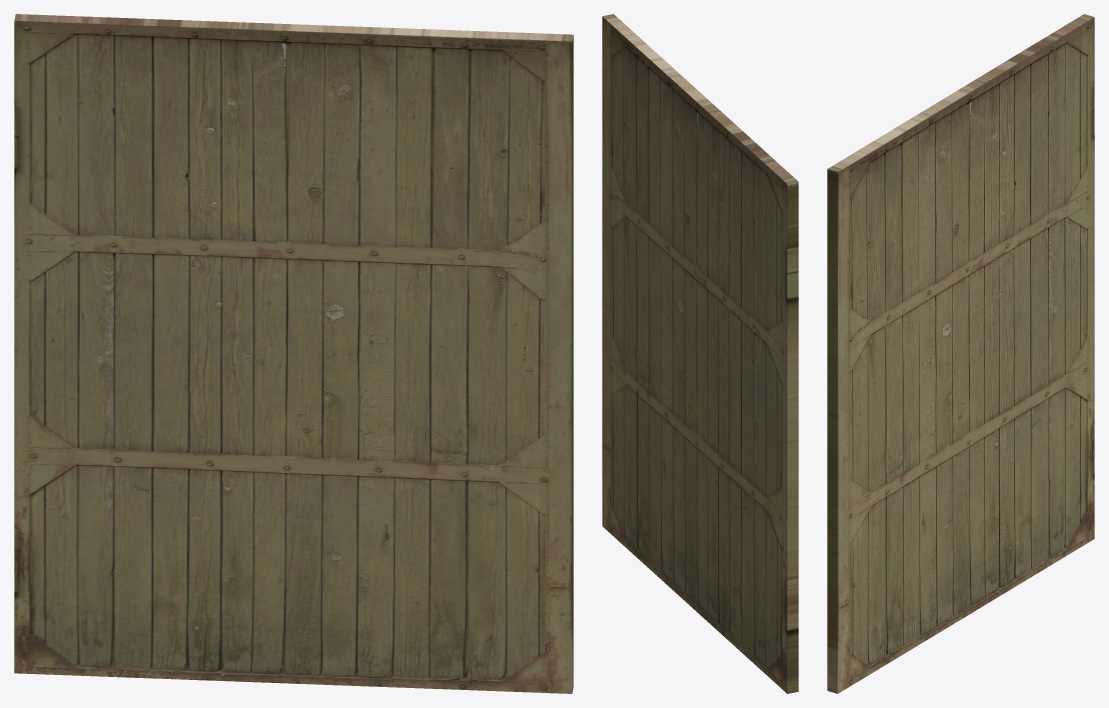
3 views of the same model, side by side, from view 1: azimuth 30°, elevation 25°; view 2: azimuth 150°, elevation 25°; view 3: azimuth 270°, elevation 25° (orthographic). The views are drawn at different scales.
Parts seen in each view (by area): view 1: Plane008_door_0; view 2: Plane008_door_0; view 3: Plane008_door_0.
Part boxes in pixels (box(x1,y1,x2,y2)): Plane008_door_0: box(14, 14, 573, 693); Plane008_door_0: box(602, 14, 798, 693); Plane008_door_0: box(827, 14, 1094, 693).
Size of the model in its own units: 2.34 by 3.6 by 1.67.
1 material, 1 textured.
